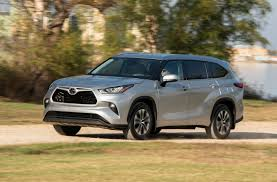Toyota: (44, 59, 240, 133)
